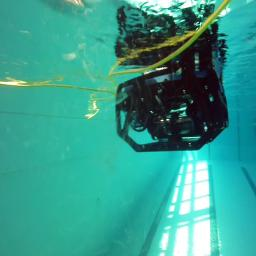Side: (114, 68, 231, 154), (116, 71, 229, 152)
